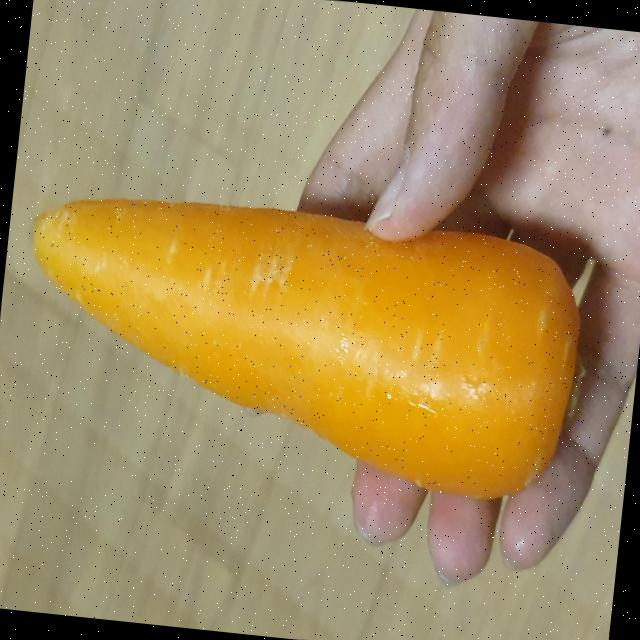carrot: (33, 199, 578, 499)
